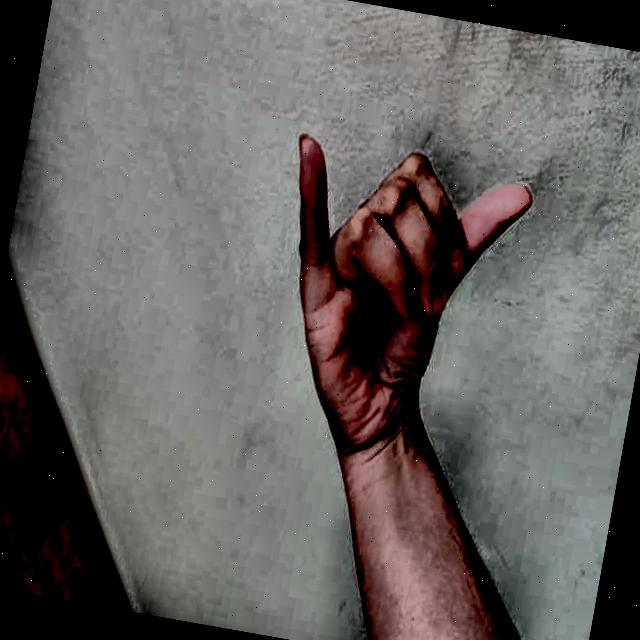Oi: (220, 72, 572, 504)
